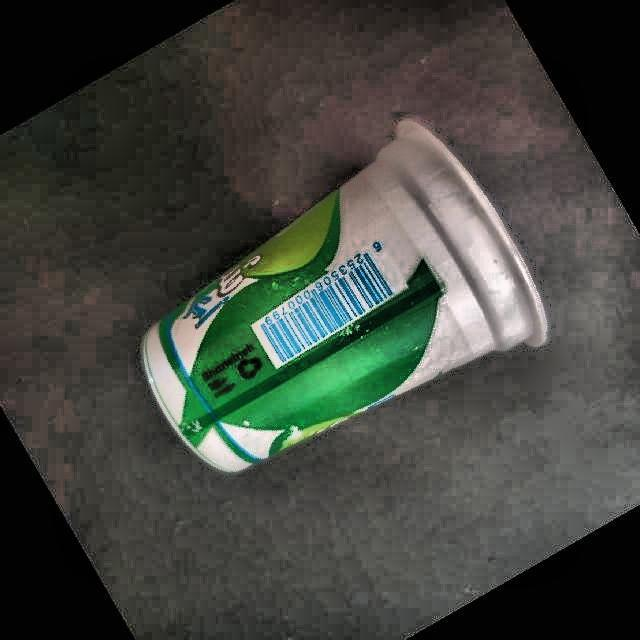plastic: (142, 122, 548, 472)
